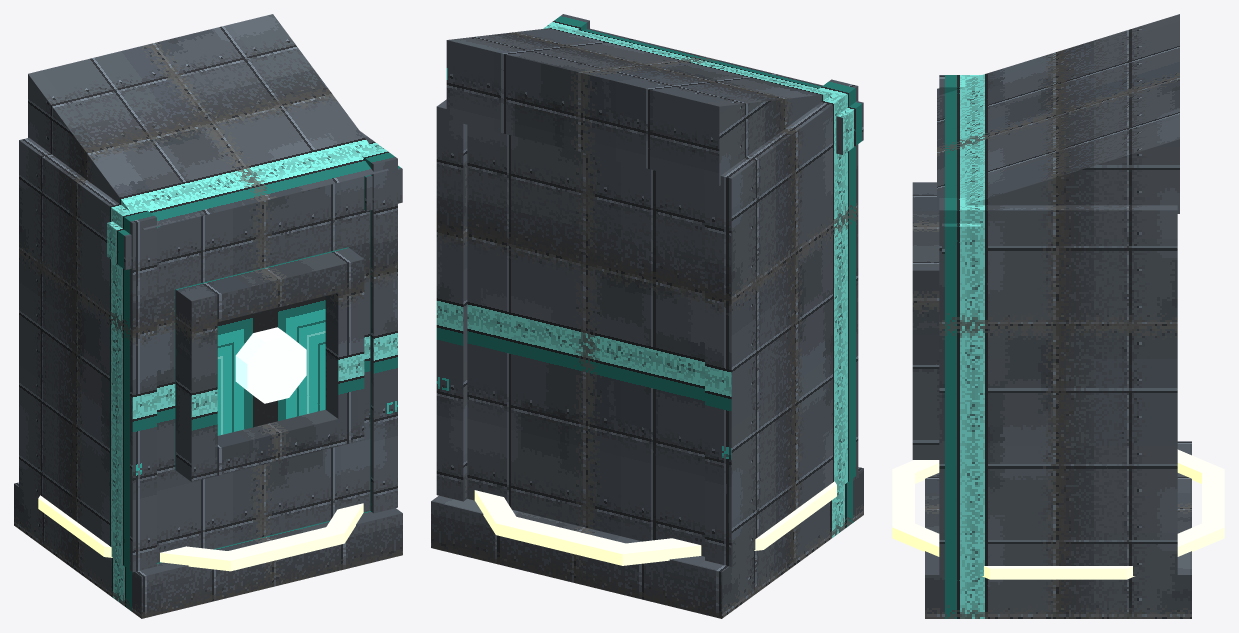
File: check_b_vault.glb
3 renders of one model, left to right at view 1: azimuth 30°, elevation 25°; view 2: azimuth 150°, elevation 25°; view 3: azimuth 270°, elevation 25°, orthographic. The views are drawn at different scales.
Parts seen in each view (by area): view 1: check_b_vault; view 2: check_b_vault; view 3: check_b_vault.
Boxes of the visible parts, left/top/right/bottom form: check_b_vault: left=14, top=14, right=402, bottom=618; check_b_vault: left=431, top=14, right=863, bottom=618; check_b_vault: left=892, top=14, right=1224, bottom=618.
Bounding box in the file's own units: 1.38 × 2.16 × 1.37.
Materials: 4 (2 with a texture image).
